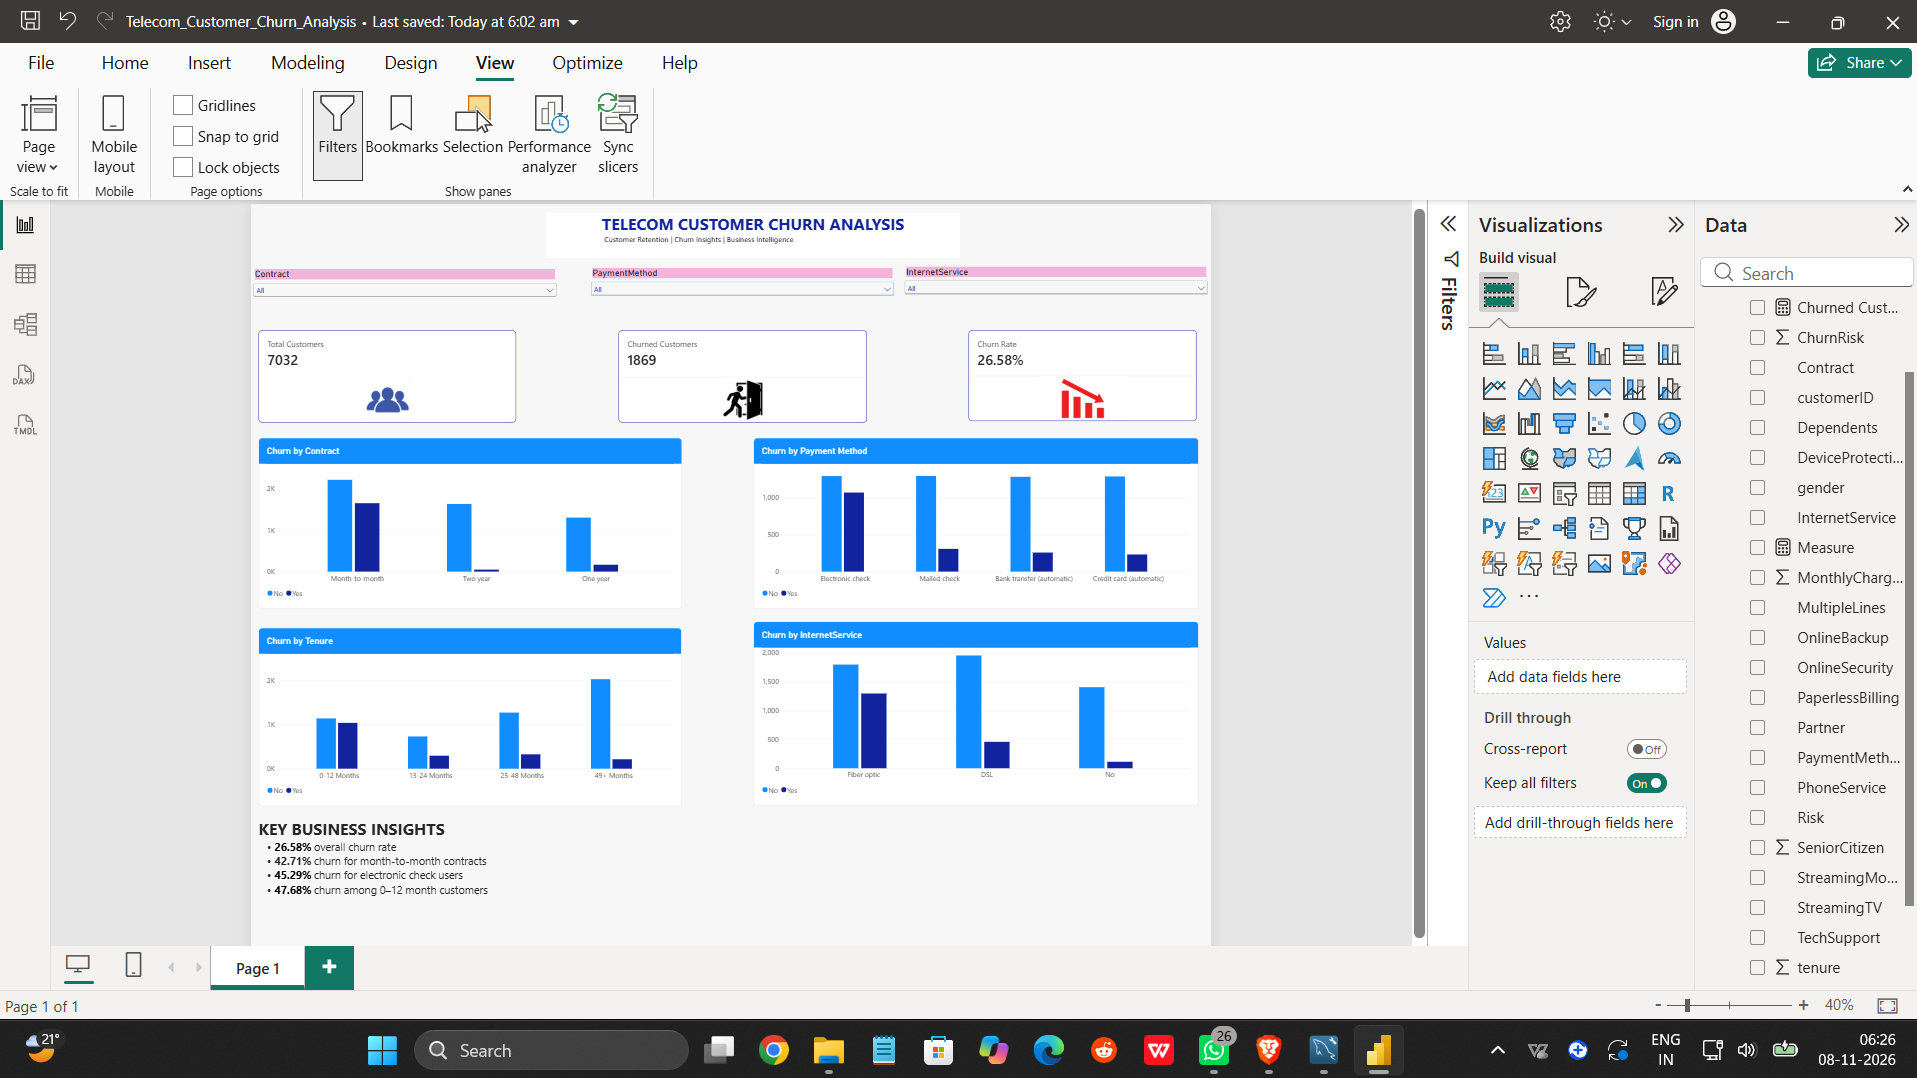

This screenshot's page, from the dashboard's own definition file:
{"tool":"powerbi","page":{"name":"Page 1","canvas":[1920,1500],"ordinal":0},"visuals":[{"type":"cardVisual","fields":{"Data":["telco_churn_cleaned.Total Customers"]},"box":[15,252.5,515,185],"z":0},{"type":"cardVisual","fields":{"Data":["telco_churn_cleaned.Churned Customers"]},"box":[735,252.5,496.7,185],"z":1000},{"type":"cardVisual","fields":{"Data":["telco_churn_cleaned.Churn Rate"]},"box":[1435,252.5,456.7,181.7],"z":2000},{"type":"clusteredColumnChart","title":"Churn by Contract","fields":{"Category":["telco_churn_cleaned.Contract"],"Series":["telco_churn_cleaned.Churn"],"Y":["CountNonNull(telco_churn_cleaned.Churn)"]},"box":[15,467.5,847.5,342.5],"z":3000},{"type":"clusteredColumnChart","title":"Churn by Payment Method","fields":{"Category":["telco_churn_cleaned.PaymentMethod"],"Series":["telco_churn_cleaned.Churn"],"Y":["CountNonNull(telco_churn_cleaned.Churn)"]},"box":[1004,468,890,342.5],"z":4000},{"type":"clusteredColumnChart","title":" Churn by Tenure","fields":{"Category":["telco_churn_cleaned.Tenure Group"],"Series":["telco_churn_cleaned.Churn"],"Y":["CountNonNull(telco_churn_cleaned.Churn)"]},"box":[15,847.5,846.7,356.7],"z":5000},{"type":"clusteredColumnChart","title":" Churn by InternetService","fields":{"Category":["telco_churn_cleaned.InternetService"],"Series":["telco_churn_cleaned.Churn"],"Y":["CountNonNull(telco_churn_cleaned.Churn)"]},"box":[1004,836,890,368.3],"z":6000},{"type":"slicer","fields":{"Values":["telco_churn_cleaned.Contract"]},"box":[0,130,616,126],"z":7000},{"type":"slicer","fields":{"Values":["telco_churn_cleaned.PaymentMethod"]},"box":[675,127.5,616,64],"z":8000},{"type":"slicer","fields":{"Values":["telco_churn_cleaned.InternetService"]},"box":[1302.5,125,616,64],"z":9000},{"type":"textbox","box":[590,18.3,828.3,90],"z":10000},{"type":"textbox","title":"Telecom_Customer_Churn_Analysis.pbix.","box":[15,1227.5,1905,272.5],"z":11000}]}

Visuals, with their boxes on the page's 1920x1500 design canvas (x1, y1, x2, y2). These are canvas units, not pixel positions in the 1917x1078 screenshot, which may show the page scaled, cropped or inside an application window:
cardVisual - telco_churn_cleaned.Total Customers: detection(15, 252, 530, 438)
cardVisual - telco_churn_cleaned.Churned Customers: detection(735, 252, 1232, 438)
cardVisual - telco_churn_cleaned.Churn Rate: detection(1435, 252, 1892, 434)
"Churn by Contract" clusteredColumnChart: detection(15, 468, 862, 810)
"Churn by Payment Method" clusteredColumnChart: detection(1004, 468, 1894, 810)
" Churn by Tenure" clusteredColumnChart: detection(15, 848, 862, 1204)
" Churn by InternetService" clusteredColumnChart: detection(1004, 836, 1894, 1204)
slicer - telco_churn_cleaned.Contract: detection(0, 130, 616, 256)
slicer - telco_churn_cleaned.PaymentMethod: detection(675, 128, 1291, 192)
slicer - telco_churn_cleaned.InternetService: detection(1302, 125, 1918, 189)
textbox: detection(590, 18, 1418, 108)
"Telecom_Customer_Churn_Analysis.pbix." textbox: detection(15, 1228, 1920, 1500)
